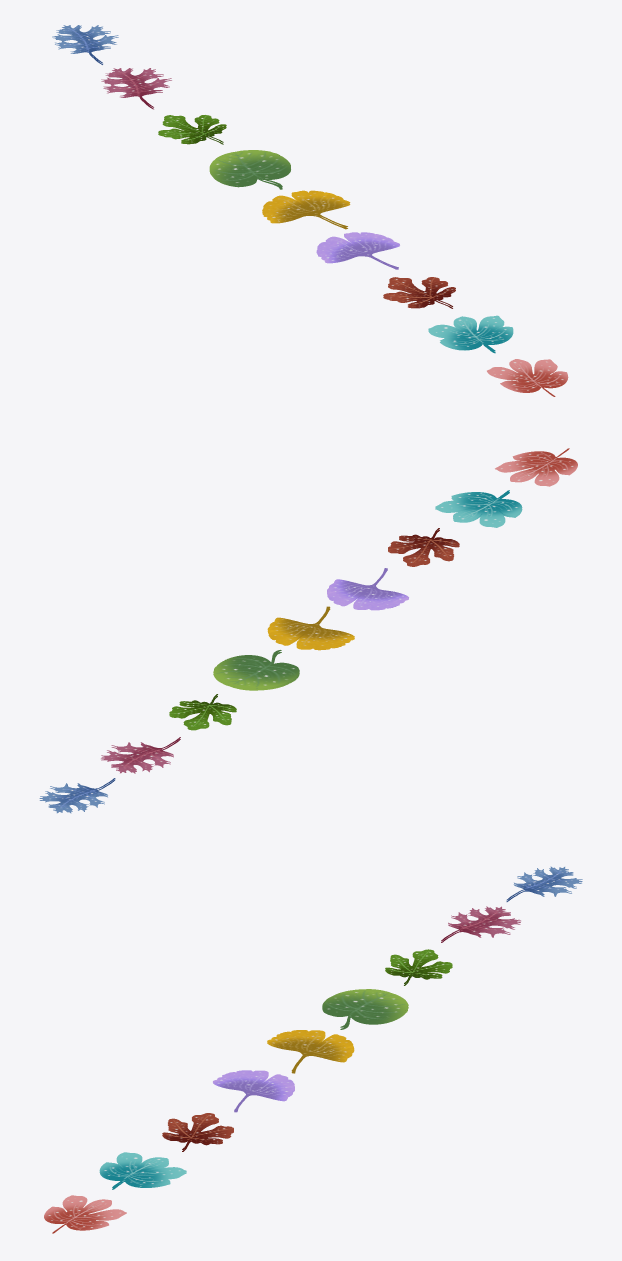
File: Ground_1.fbx
The picture shows the model from 3 angles, top to bottom: view 1: azimuth 30°, elevation 25°; view 2: azimuth 150°, elevation 25°; view 3: azimuth 330°, elevation 25°; orthographic projection.
Visible parts, largest first — view 1: Ground_2, Ground_6, Ground_1, Ground_7, Ground_3, Ground_4, Ground_8, Ground_5, Ground_9; view 2: Ground_2, Ground_6, Ground_1, Ground_7, Ground_3, Ground_4, Ground_8, Ground_5, Ground_9; view 3: Ground_2, Ground_6, Ground_1, Ground_7, Ground_3, Ground_4, Ground_8, Ground_5, Ground_9.
Boxes of the visible parts, x1,y1,x2,y2 form: Ground_2: (209, 150, 290, 189); Ground_6: (428, 315, 513, 353); Ground_1: (262, 190, 350, 229); Ground_7: (487, 359, 568, 396); Ground_3: (316, 232, 399, 269); Ground_4: (383, 277, 455, 308); Ground_8: (101, 68, 171, 109); Ground_5: (158, 115, 226, 144); Ground_9: (52, 25, 118, 64); Ground_2: (213, 650, 299, 690); Ground_6: (435, 490, 522, 527); Ground_1: (267, 606, 354, 650); Ground_7: (495, 448, 577, 486); Ground_3: (327, 568, 408, 610); Ground_4: (388, 528, 459, 566); Ground_8: (101, 737, 180, 773); Ground_5: (169, 694, 236, 730); Ground_9: (39, 778, 115, 813); Ground_2: (322, 989, 408, 1029); Ground_6: (99, 1152, 186, 1189); Ground_1: (267, 1030, 354, 1073); Ground_7: (44, 1195, 126, 1233); Ground_3: (213, 1070, 294, 1112); Ground_4: (162, 1113, 233, 1151); Ground_8: (441, 906, 520, 942); Ground_5: (385, 949, 452, 985); Ground_9: (506, 866, 582, 901).
Bounding box in the file's own units: 200 × 4.49 × 1944.
